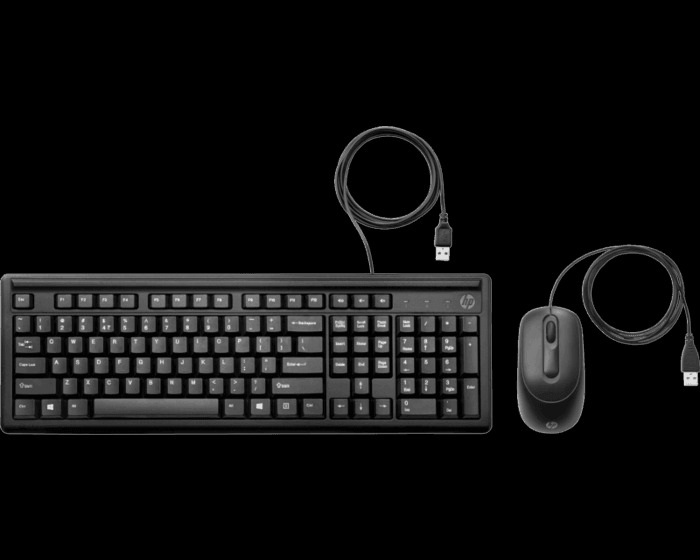keyboard: (4, 275, 488, 430)
mouse: (514, 300, 588, 447)
